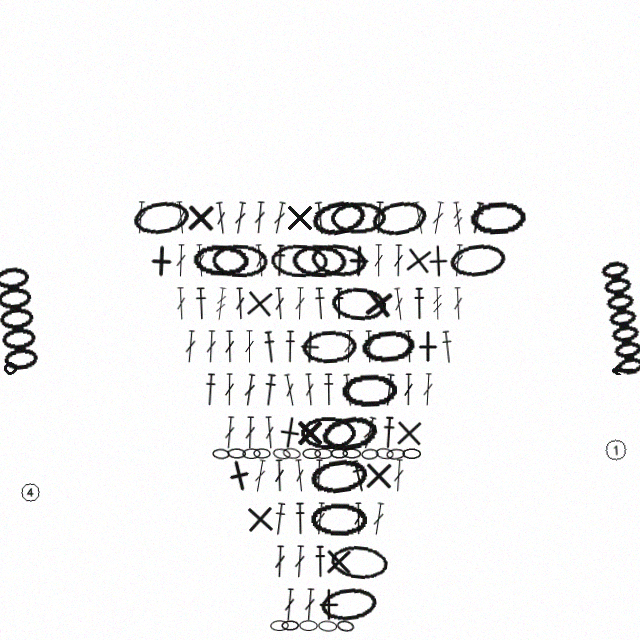chain: (309, 196, 369, 239), (319, 412, 379, 454), (369, 197, 429, 239), (308, 456, 369, 496), (131, 198, 191, 238), (309, 241, 369, 280), (448, 241, 508, 280), (319, 585, 378, 624), (329, 543, 389, 581), (360, 328, 417, 365), (330, 285, 387, 322), (270, 243, 329, 278), (211, 243, 269, 278), (192, 243, 249, 278), (291, 243, 348, 278), (469, 200, 526, 235), (301, 329, 357, 364), (310, 502, 367, 536), (330, 201, 387, 235), (341, 373, 397, 407), (300, 416, 357, 449), (336, 619, 355, 633), (272, 447, 291, 461), (282, 447, 301, 460), (375, 447, 394, 460), (318, 620, 337, 632), (386, 448, 405, 460), (212, 448, 230, 460), (361, 448, 379, 460), (270, 620, 289, 631), (299, 620, 318, 631), (227, 448, 246, 459), (242, 448, 261, 459), (302, 448, 321, 459), (314, 448, 333, 459), (342, 448, 361, 459), (402, 448, 421, 459), (281, 620, 299, 631), (253, 448, 271, 459), (330, 448, 348, 459)
double: (360, 416, 378, 450), (271, 201, 288, 235), (252, 459, 268, 493), (282, 373, 298, 407), (232, 201, 248, 235), (411, 201, 427, 235), (430, 201, 446, 235), (371, 502, 386, 536), (242, 373, 257, 407), (341, 373, 356, 407), (392, 287, 406, 321), (214, 201, 228, 235), (313, 502, 327, 535), (293, 459, 307, 492), (253, 244, 267, 277), (451, 244, 465, 277), (174, 201, 188, 234), (283, 588, 296, 621), (303, 588, 316, 621), (293, 545, 306, 578), (392, 459, 405, 492), (223, 416, 236, 449), (263, 416, 276, 449), (303, 373, 316, 406), (184, 330, 197, 363), (273, 287, 286, 320), (194, 244, 207, 277), (134, 201, 147, 234), (253, 201, 266, 234), (274, 545, 286, 578), (313, 459, 325, 492), (244, 416, 256, 449), (422, 373, 434, 406), (205, 330, 217, 363), (343, 330, 355, 363), (363, 330, 375, 363), (403, 330, 415, 363), (175, 287, 187, 320), (234, 287, 246, 320), (294, 287, 306, 320), (452, 287, 464, 320), (175, 244, 187, 277), (353, 502, 364, 535), (274, 459, 285, 492), (224, 373, 235, 406), (403, 373, 414, 406), (224, 330, 235, 363), (244, 330, 255, 363), (373, 244, 384, 277), (393, 244, 404, 277)
enseble_chain: (596, 258, 640, 381), (0, 265, 43, 375)
half_double: (349, 459, 368, 493), (468, 201, 487, 235), (271, 502, 288, 536), (262, 373, 278, 407), (381, 373, 397, 407), (262, 330, 278, 364), (312, 201, 328, 235), (440, 330, 455, 364), (381, 416, 396, 449), (203, 373, 218, 406), (194, 287, 208, 320), (313, 287, 327, 320), (273, 244, 287, 277), (372, 201, 386, 234), (322, 373, 335, 406), (314, 545, 326, 578), (294, 502, 306, 535), (284, 330, 296, 363), (333, 287, 345, 320), (413, 287, 425, 320)
noise: (603, 437, 629, 463), (19, 481, 41, 503), (2, 360, 19, 377), (609, 365, 634, 375)
single: (220, 456, 259, 495), (271, 414, 308, 451), (360, 285, 397, 322), (400, 242, 437, 279), (242, 286, 277, 321), (243, 502, 277, 536), (392, 416, 426, 450), (293, 330, 327, 364), (144, 244, 178, 278), (342, 244, 376, 278), (421, 244, 455, 278), (312, 588, 345, 621), (322, 545, 355, 578), (362, 459, 395, 492), (293, 416, 326, 449), (411, 330, 444, 363), (184, 201, 217, 234), (283, 201, 316, 234)
treble: (214, 287, 228, 321), (451, 201, 465, 235), (432, 287, 443, 320)
